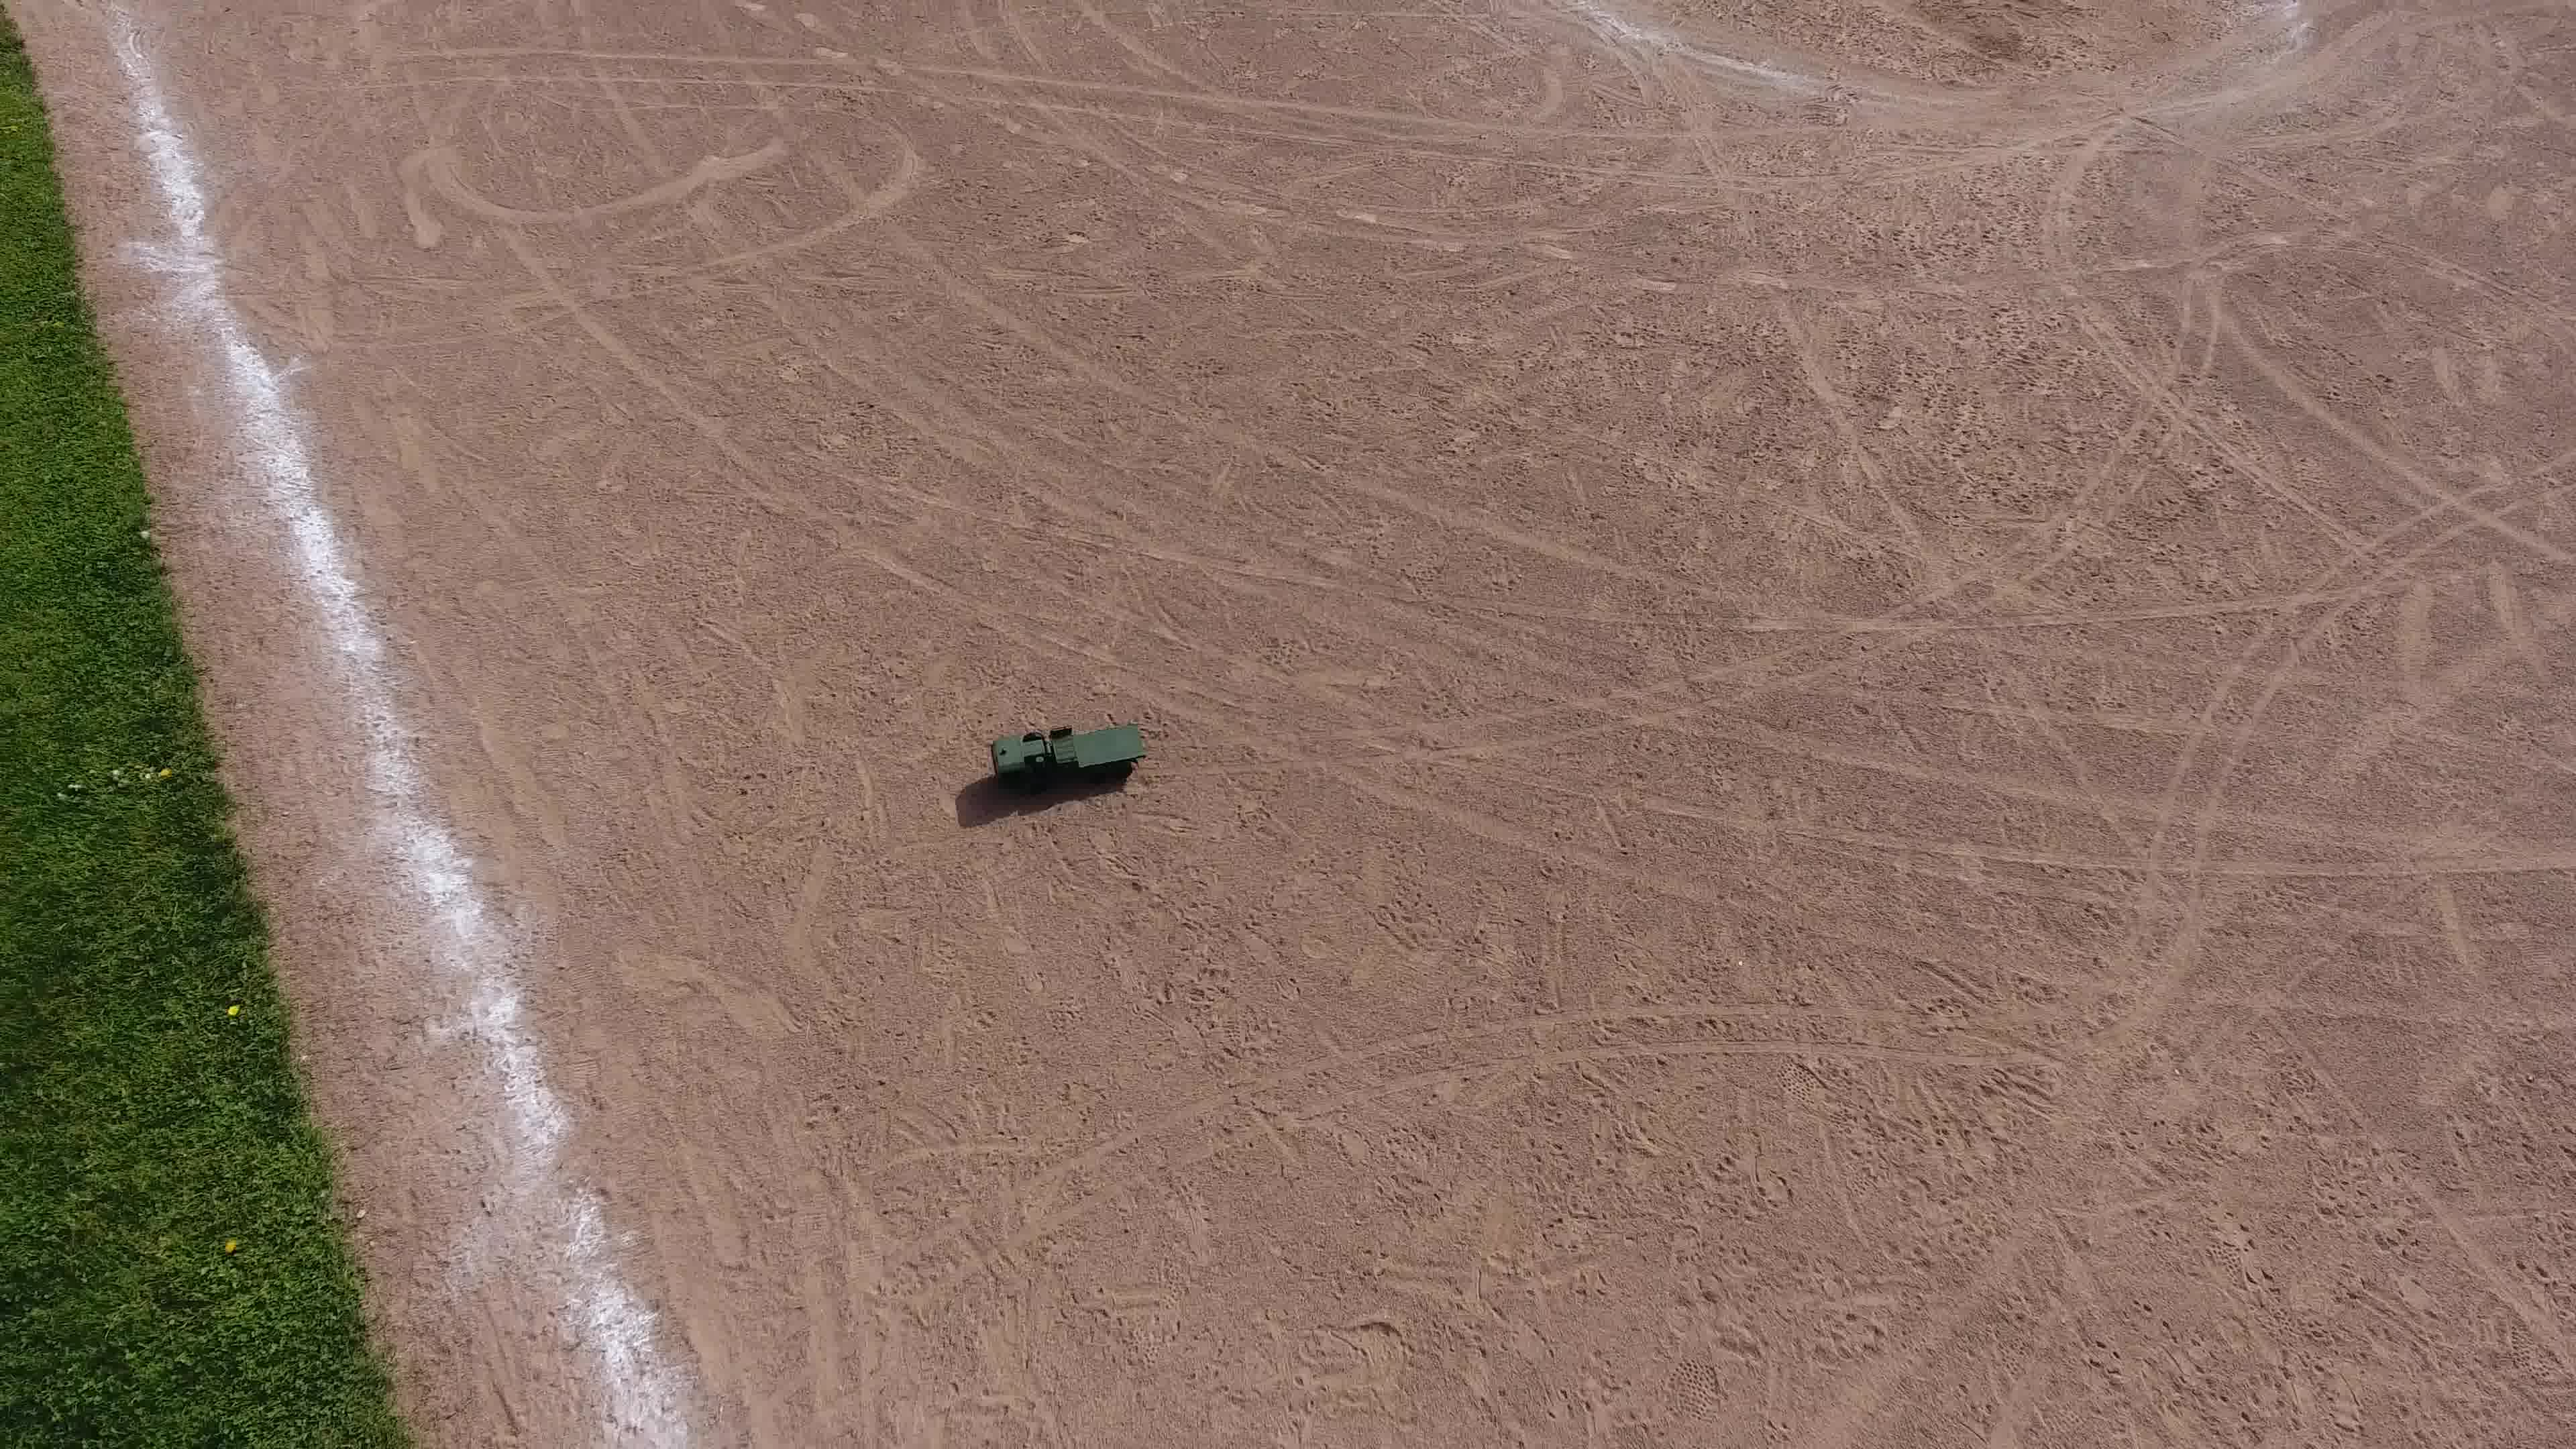transporter9: (984, 718, 1152, 791)
